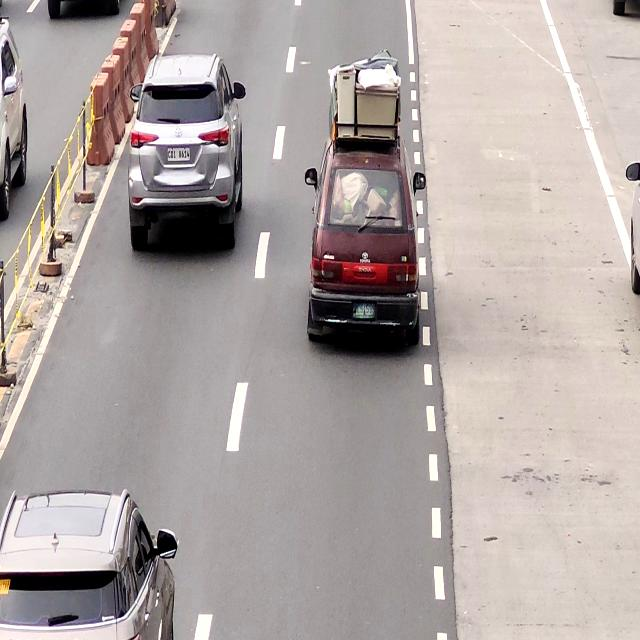Car: (0, 487, 180, 640), (125, 53, 248, 255), (306, 147, 422, 353)
License-Plate: (351, 303, 380, 319), (166, 146, 190, 164)
